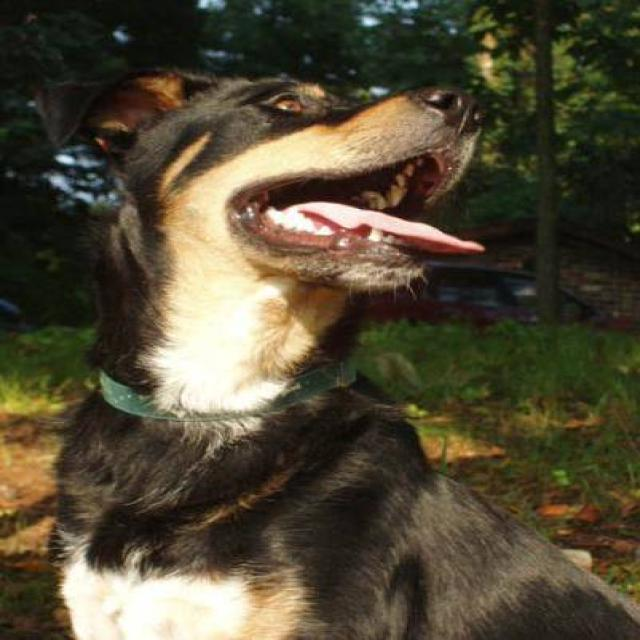dog: (34, 65, 638, 639)
